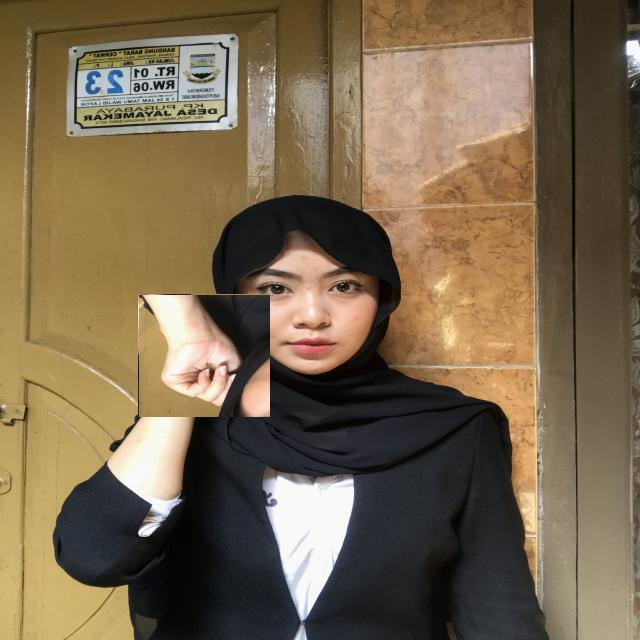ibu: (138, 294, 270, 417)
